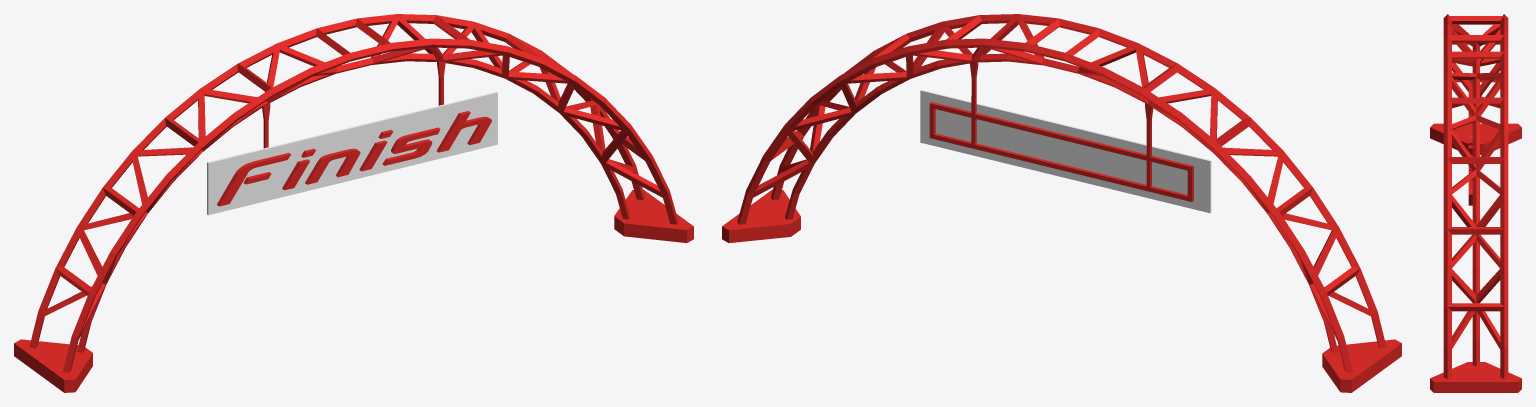
The model's file is arka with banner.fbx.
3 renders of one model, left to right at view 1: azimuth 30°, elevation 25°; view 2: azimuth 150°, elevation 25°; view 3: azimuth 270°, elevation 25°, orthographic. The views are drawn at different scales.
Parts seen in each view (by area): view 1: Arch_for_banner_free; view 2: Arch_for_banner_free; view 3: Arch_for_banner_free.
Part boxes in pixels (x1=…): Arch_for_banner_free: x1=14, y1=14, x2=693, y2=392; Arch_for_banner_free: x1=722, y1=14, x2=1401, y2=392; Arch_for_banner_free: x1=1430, y1=14, x2=1521, y2=392.
Bounding box in the file's own units: 1516 × 603 × 228.
